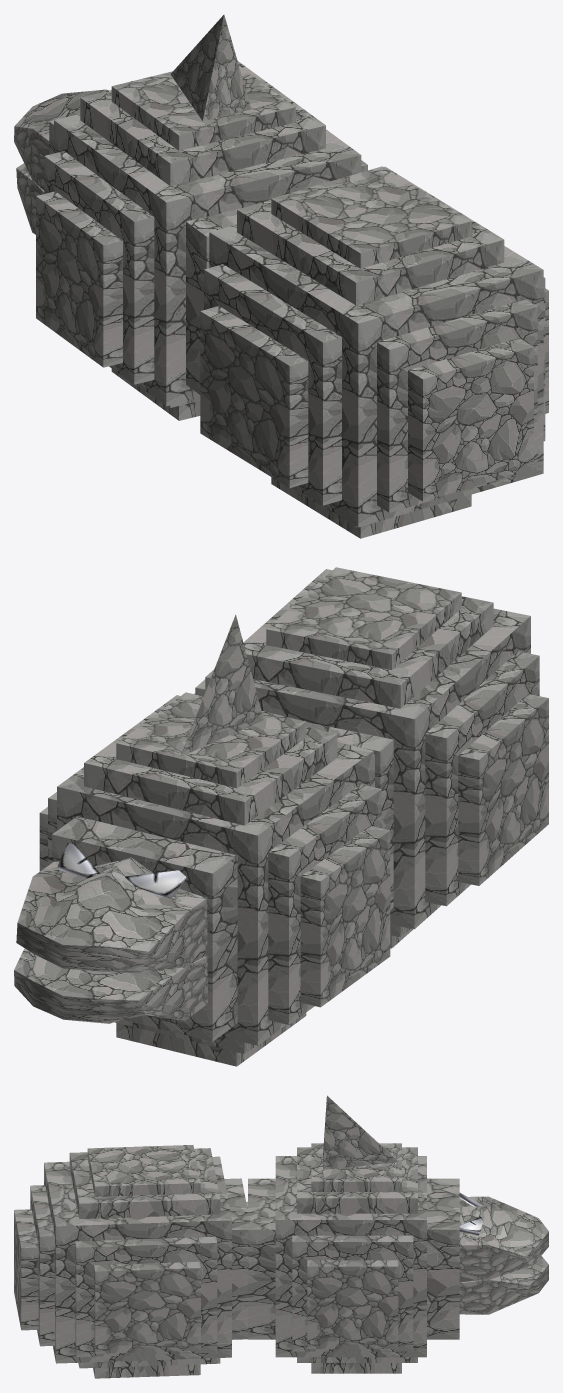
File: CabezaOnix.obj
The picture shows the model from 3 angles, top to bottom: view 1: azimuth 30°, elevation 25°; view 2: azimuth 150°, elevation 25°; view 3: azimuth 270°, elevation 25°; orthographic projection. The views are drawn at different scales.
Visible parts, largest first — view 1: Onix; view 2: Onix, Box001, Box002; view 3: Onix.
Boxes of the visible parts, x1,y1,x2,y2 form: Onix: (14,14,548,538); Onix: (14,567,548,1066); Box001: (125,870,186,898); Box002: (58,843,100,878); Onix: (14,1095,548,1378).
Size of the model in its own units: 5.82 by 7.42 by 13.92.
